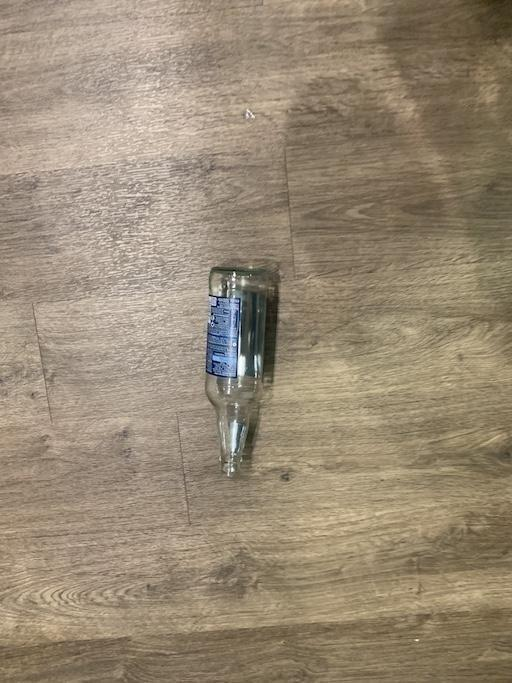bottle-glass: (205, 264, 276, 477)
